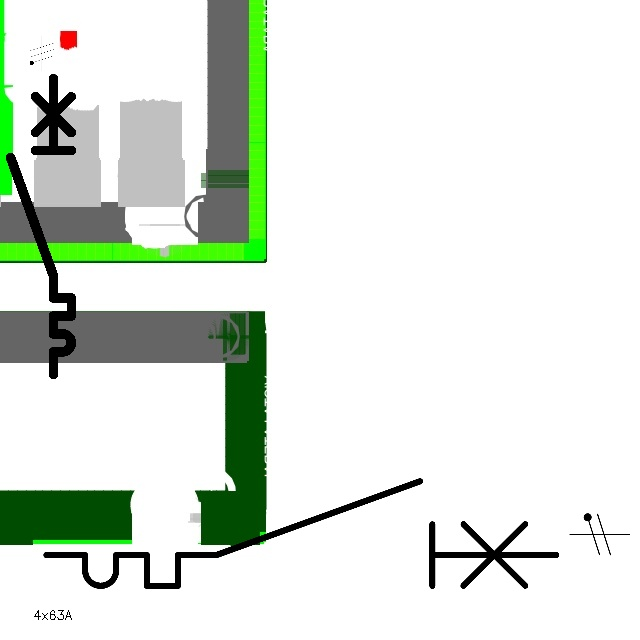interruptor_termomagnetico: (33, 468, 569, 599), (3, 71, 79, 382)
